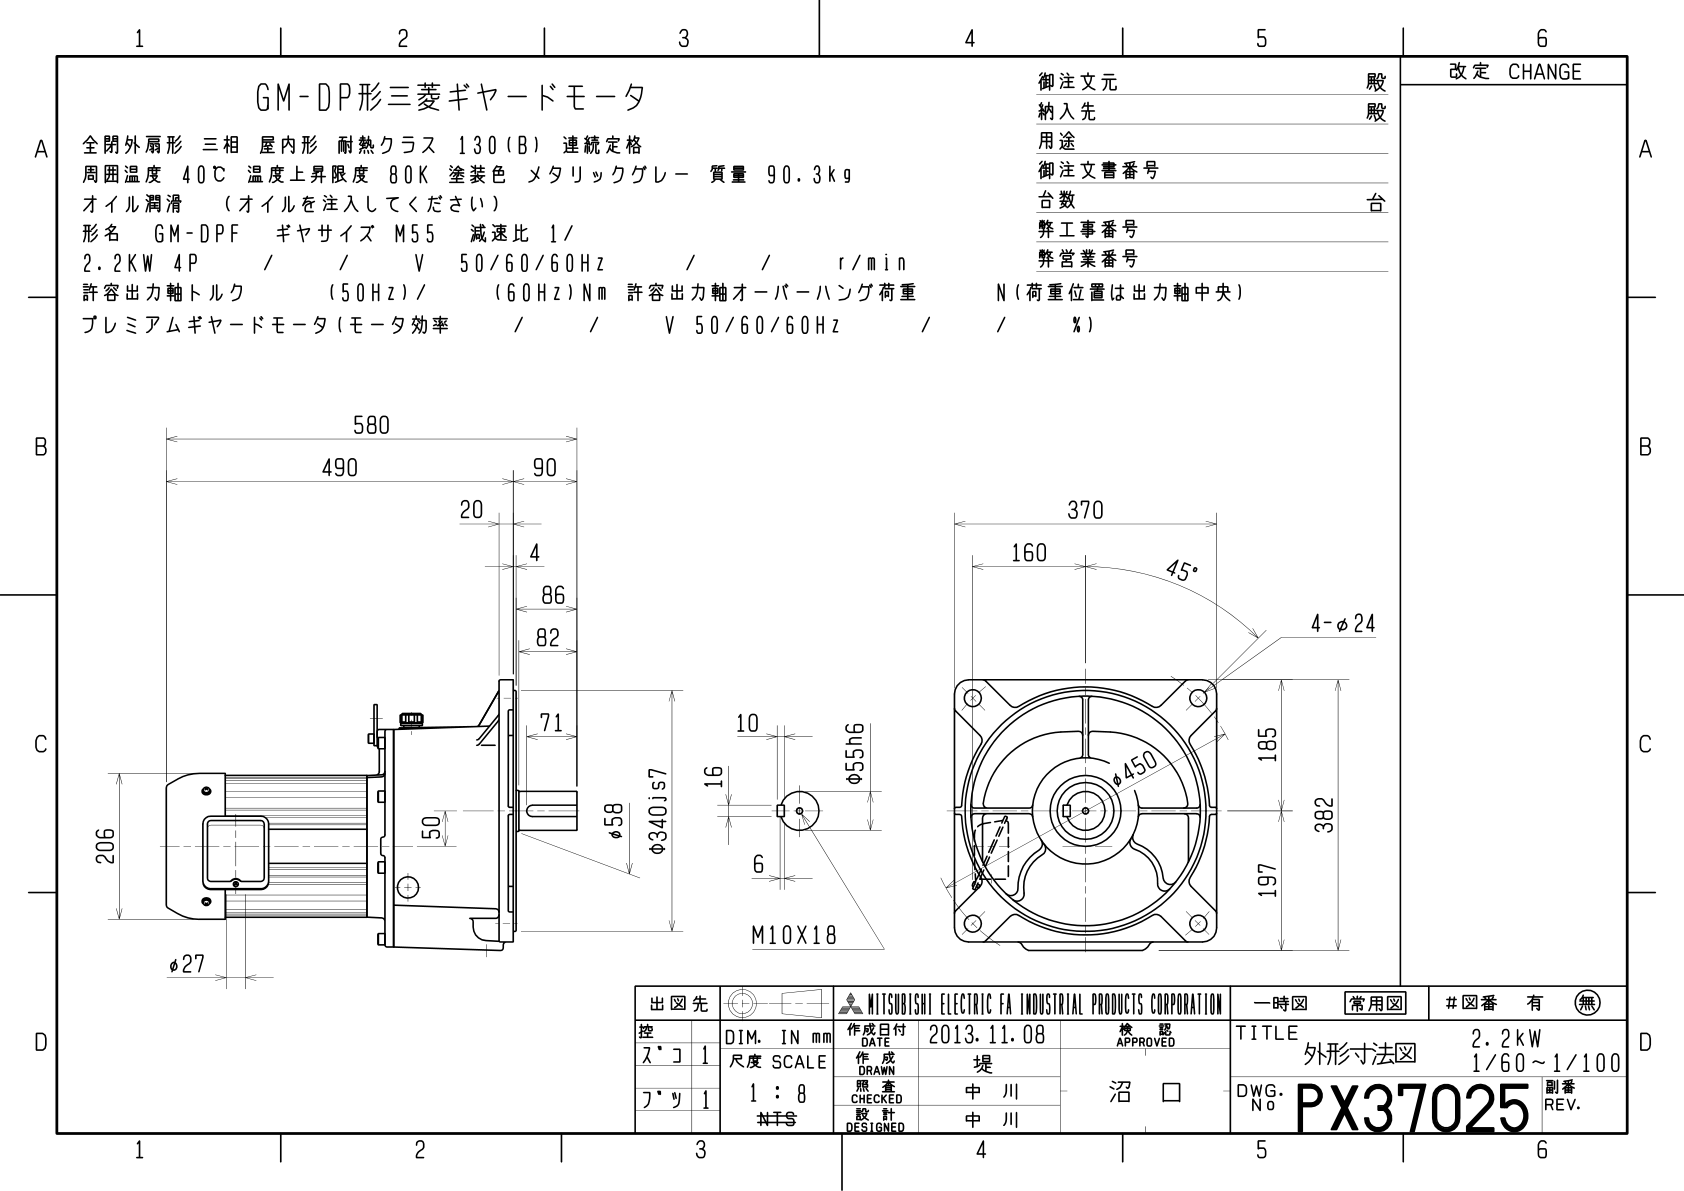GM_DP_屋内_三相_フランジ: (21, 12, 1684, 1191)
